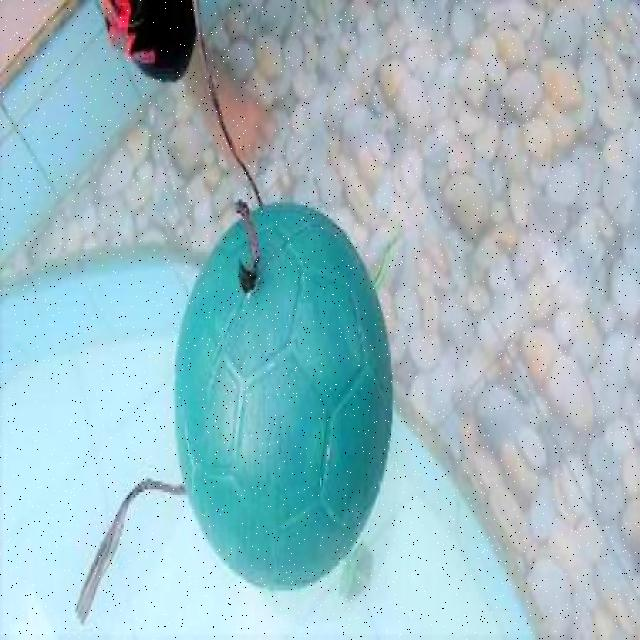buoy: (174, 201, 392, 587)
